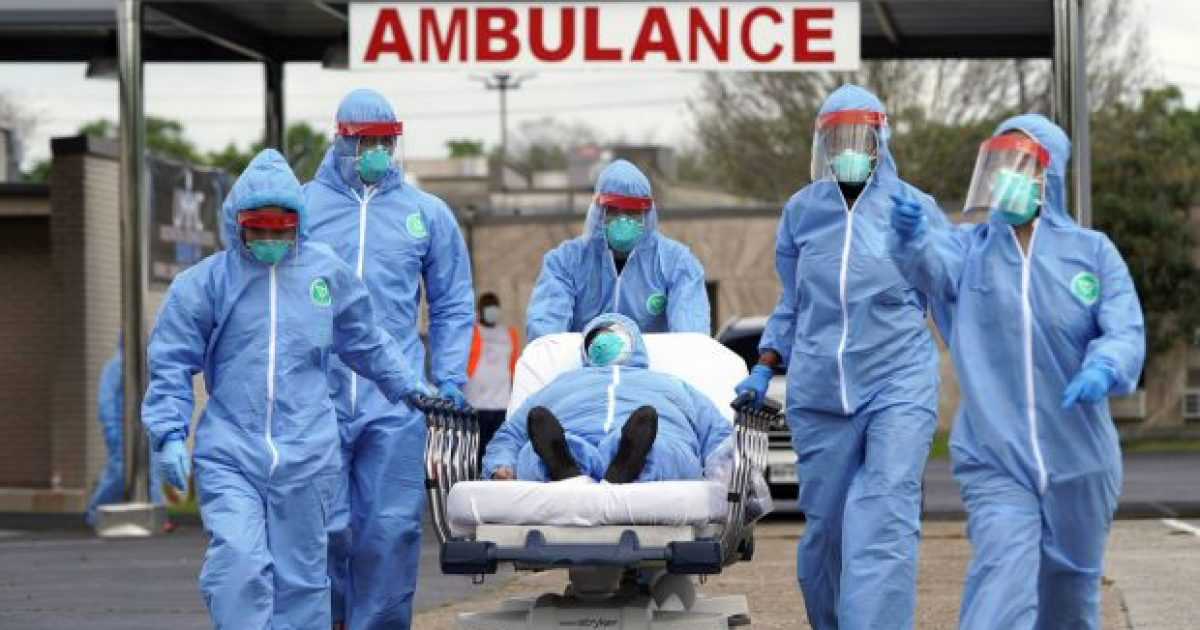Coverall: (144, 151, 389, 630), (932, 112, 1147, 630), (768, 79, 961, 630), (296, 80, 479, 630), (525, 156, 714, 347)
Gloves: (1056, 356, 1116, 412), (727, 355, 776, 409), (154, 430, 192, 492)
with_mask: (822, 128, 877, 181), (602, 215, 650, 258), (354, 141, 397, 188), (586, 333, 625, 365), (244, 238, 293, 263)
